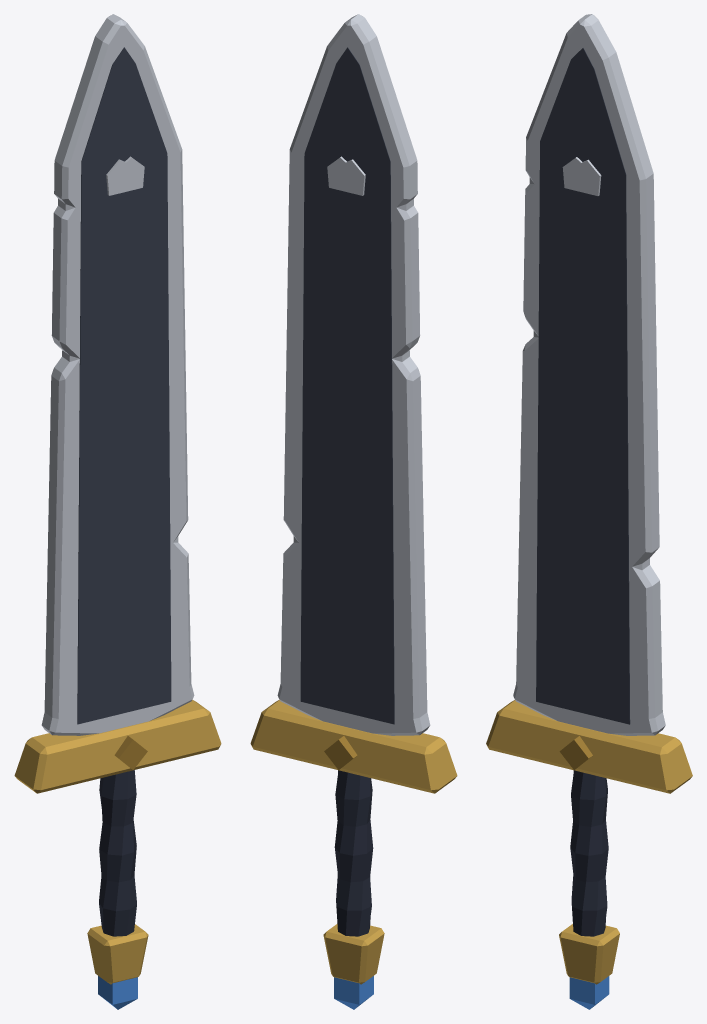
The model's file is greatsword.glb.
3 renders of one model, left to right at view 1: azimuth 30°, elevation 25°; view 2: azimuth 150°, elevation 25°; view 3: azimuth 330°, elevation 25°, orthographic.
Parts seen in each view (by area): view 1: WPN_Greatsword; view 2: WPN_Greatsword; view 3: WPN_Greatsword.
Boxes of the visible parts, box(x1,y1,x2,y2) form: WPN_Greatsword: box(14, 14, 221, 1009); WPN_Greatsword: box(250, 14, 457, 1009); WPN_Greatsword: box(486, 14, 692, 1009).
Bounding box in the file's own units: 0.4734 × 2.39 × 0.134.
